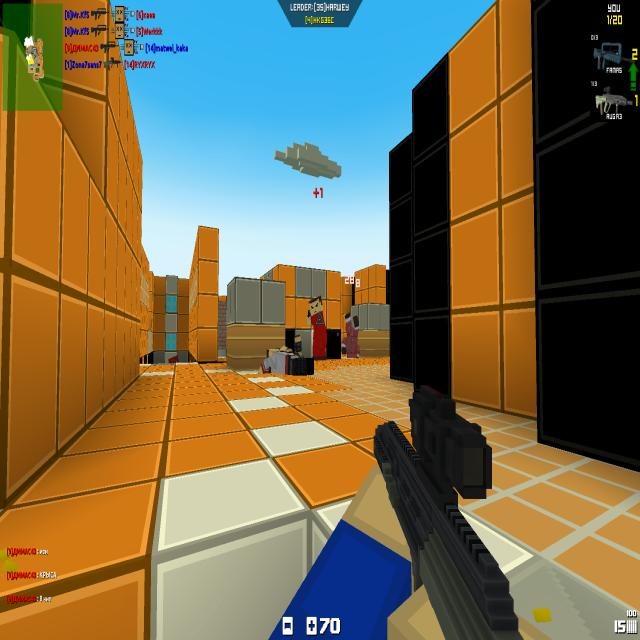enemy: (307, 295, 328, 361)
